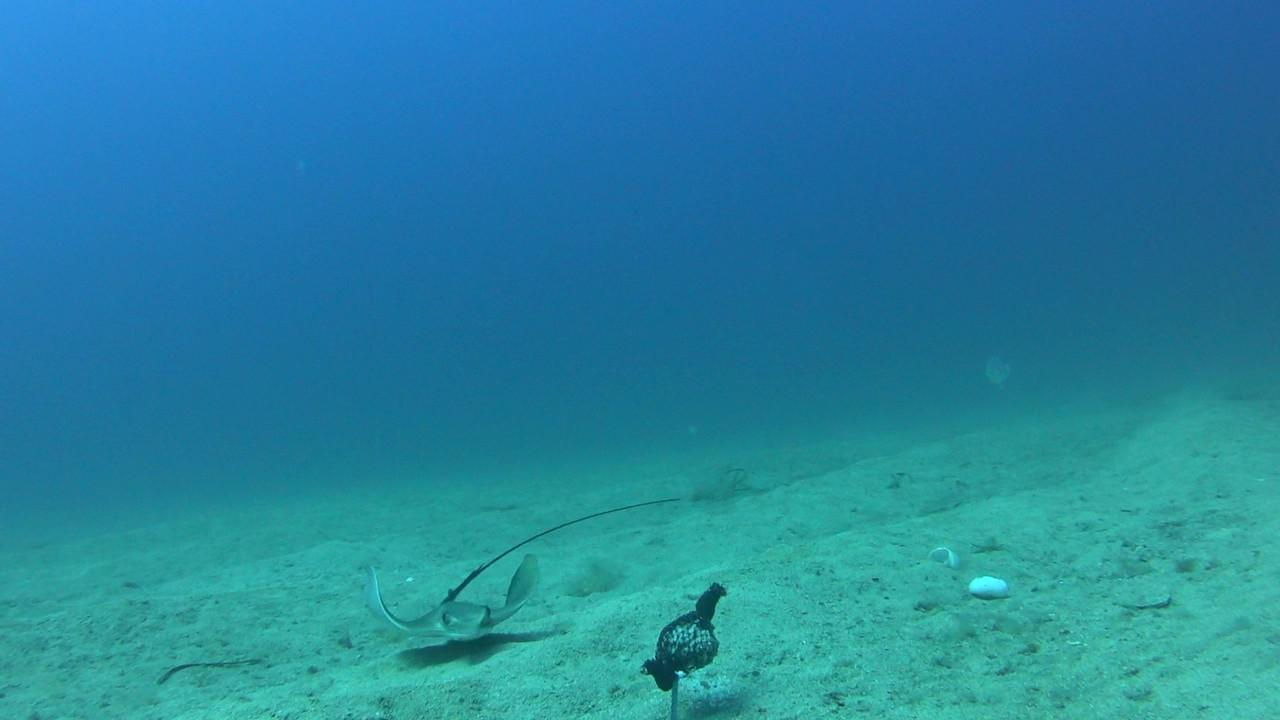myliobatis: (338, 479, 683, 659)
